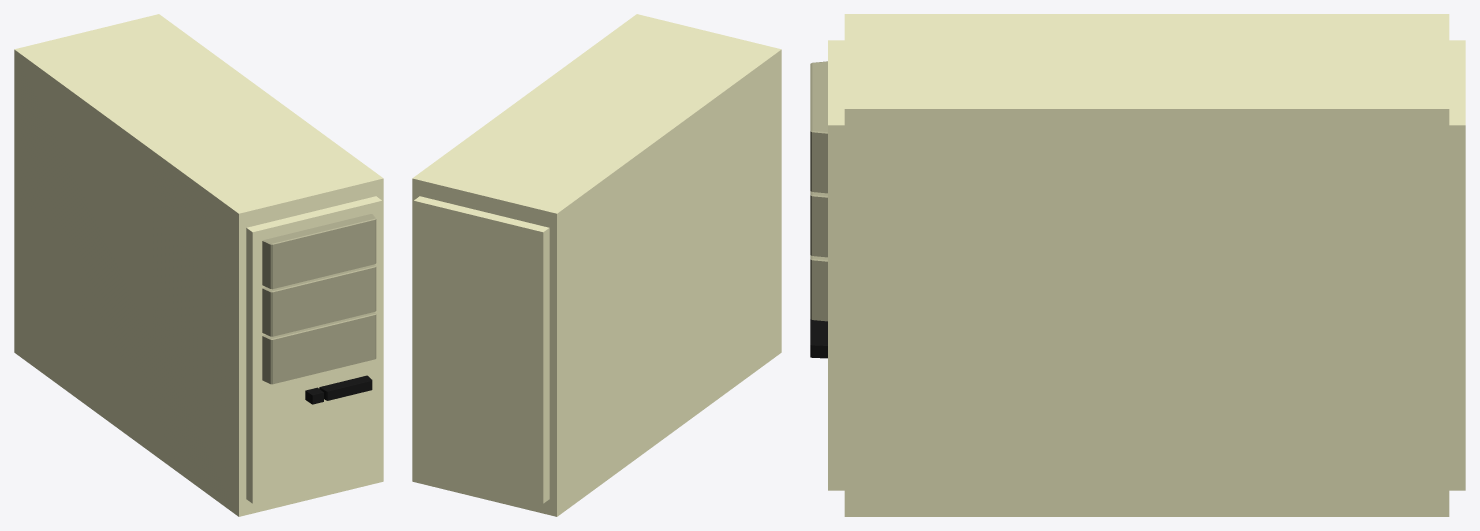
The model's file is CaseComputer.fbx.
3 views of the same model, side by side, from view 1: azimuth 30°, elevation 25°; view 2: azimuth 150°, elevation 25°; view 3: azimuth 270°, elevation 25° (orthographic). The views are drawn at different scales.
Parts seen in each view (by area): view 1: Cube; view 2: Cube; view 3: Cube.
Part boxes in pixels (left/top/right/bottom): Cube: left=14, top=14, right=383, bottom=516; Cube: left=412, top=14, right=781, bottom=516; Cube: left=810, top=14, right=1465, bottom=516.
Size of the model in its own units: 223 by 446 by 650.
